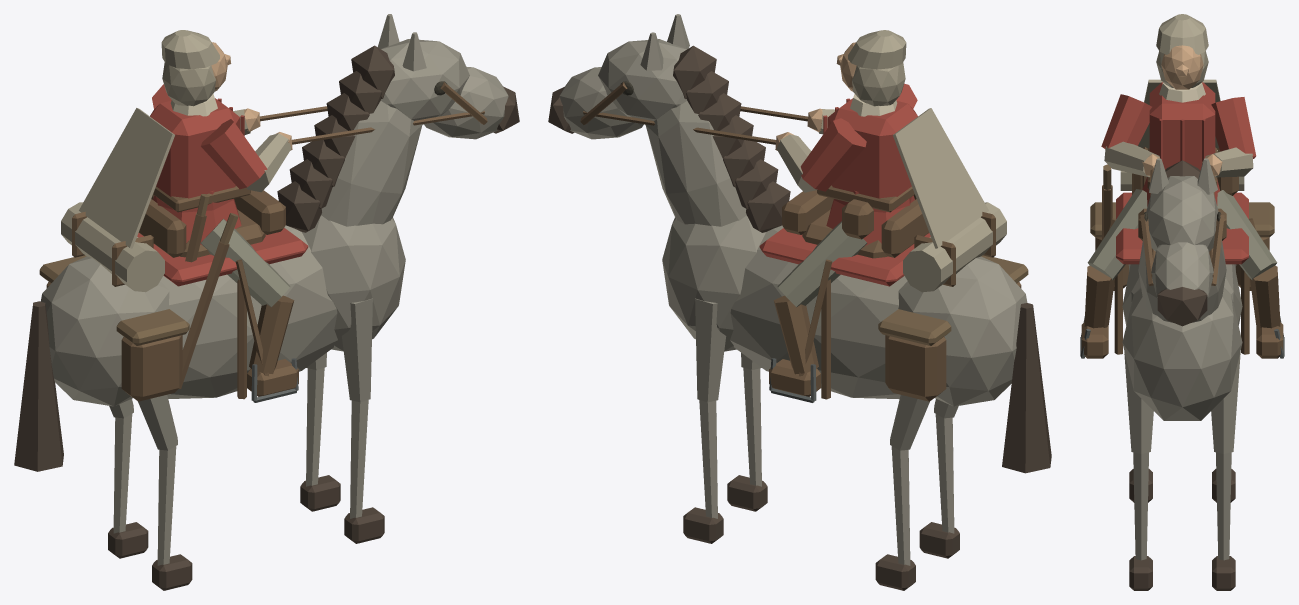
The model's file is cavalry_scout.glb.
The picture shows the model from 3 angles, left to right: view 1: azimuth 30°, elevation 25°; view 2: azimuth 150°, elevation 25°; view 3: azimuth 270°, elevation 25°; orthographic projection. The views are drawn at different scales.
Visible parts, largest first — view 1: cavalry_scout_horse, cavalry_scout_mane, cavalry_scout_leather, cavalry_scout_padded_linen, cavalry_scout_team_cloth, cavalry_scout_oak_dark, cavalry_scout_hose, cavalry_scout_skin; view 2: cavalry_scout_horse, cavalry_scout_mane, cavalry_scout_leather, cavalry_scout_padded_linen, cavalry_scout_team_cloth, cavalry_scout_hose, cavalry_scout_oak_dark, cavalry_scout_skin; view 3: cavalry_scout_horse, cavalry_scout_team_cloth, cavalry_scout_leather, cavalry_scout_padded_linen, cavalry_scout_mane, cavalry_scout_hose, cavalry_scout_skin, cavalry_scout_oak_dark, cavalry_scout_linen.
Part boxes in pixels (bbox=[...]): cavalry_scout_horse: bbox=[40, 14, 508, 565]; cavalry_scout_mane: bbox=[14, 45, 519, 590]; cavalry_scout_leather: bbox=[46, 82, 487, 401]; cavalry_scout_padded_linen: bbox=[61, 30, 291, 292]; cavalry_scout_team_cloth: bbox=[137, 84, 308, 286]; cavalry_scout_oak_dark: bbox=[39, 194, 238, 345]; cavalry_scout_hose: bbox=[200, 219, 290, 307]; cavalry_scout_skin: bbox=[211, 42, 292, 150]; cavalry_scout_horse: bbox=[559, 14, 1027, 565]; cavalry_scout_mane: bbox=[548, 45, 1051, 590]; cavalry_scout_leather: bbox=[580, 82, 1021, 401]; cavalry_scout_padded_linen: bbox=[776, 30, 1006, 292]; cavalry_scout_team_cloth: bbox=[759, 83, 930, 286]; cavalry_scout_hose: bbox=[777, 221, 867, 307]; cavalry_scout_oak_dark: bbox=[878, 255, 1028, 345]; cavalry_scout_skin: bbox=[775, 42, 856, 150]; cavalry_scout_horse: bbox=[1122, 158, 1242, 560]; cavalry_scout_team_cloth: bbox=[1101, 82, 1256, 264]; cavalry_scout_leather: bbox=[1081, 147, 1283, 358]; cavalry_scout_padded_linen: bbox=[1104, 14, 1253, 190]; cavalry_scout_mane: bbox=[1129, 160, 1235, 590]; cavalry_scout_hose: bbox=[1087, 189, 1277, 280]; cavalry_scout_skin: bbox=[1142, 45, 1222, 175]; cavalry_scout_oak_dark: bbox=[1090, 164, 1274, 237]; cavalry_scout_linen: bbox=[1159, 82, 1205, 102].
Size of the model in its own units: 2.88 by 2.91 by 1.09.
